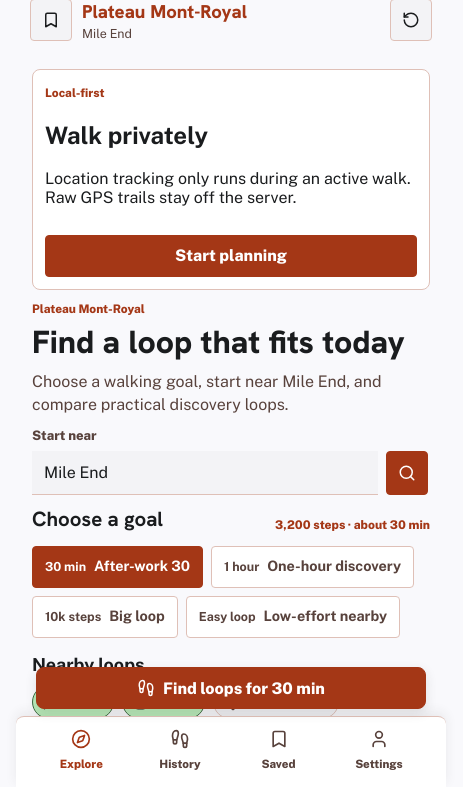
it: App › uses the active walk route for companion POIs, next move, and bailout summaries
Click the button "Find loops for 30 min" at (231, 688), box [36,667,426,709]
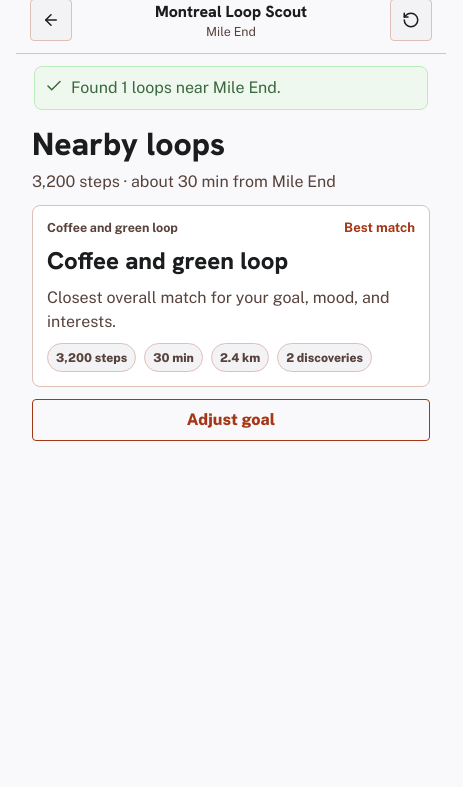
Click the button "Coffee and green loop" at (231, 296), box [32,205,430,387]
(page scrolled)
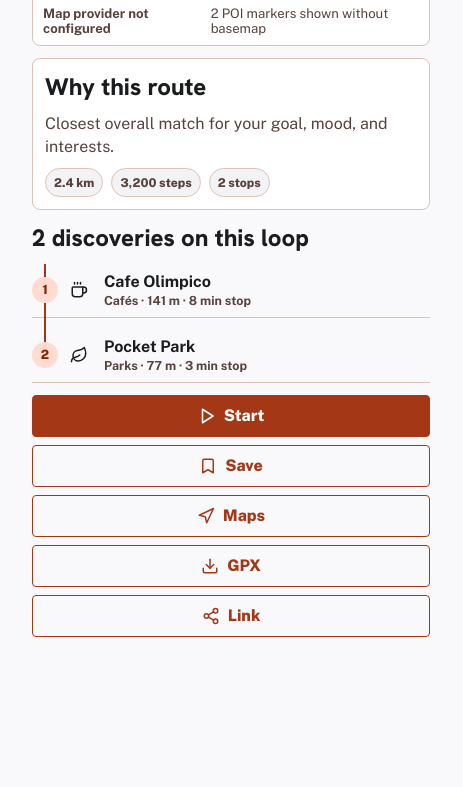
Click the button "Start" at (231, 416), box [32,395,430,437]
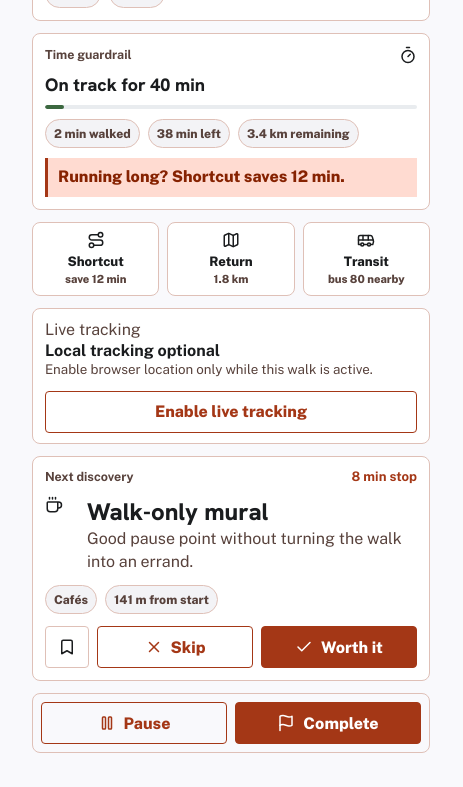
Expected: the heading "Walk-only mural" is shown, [87,496,268,527]
Expected: the text "save 12 min" is shown, [65,273,126,286]
